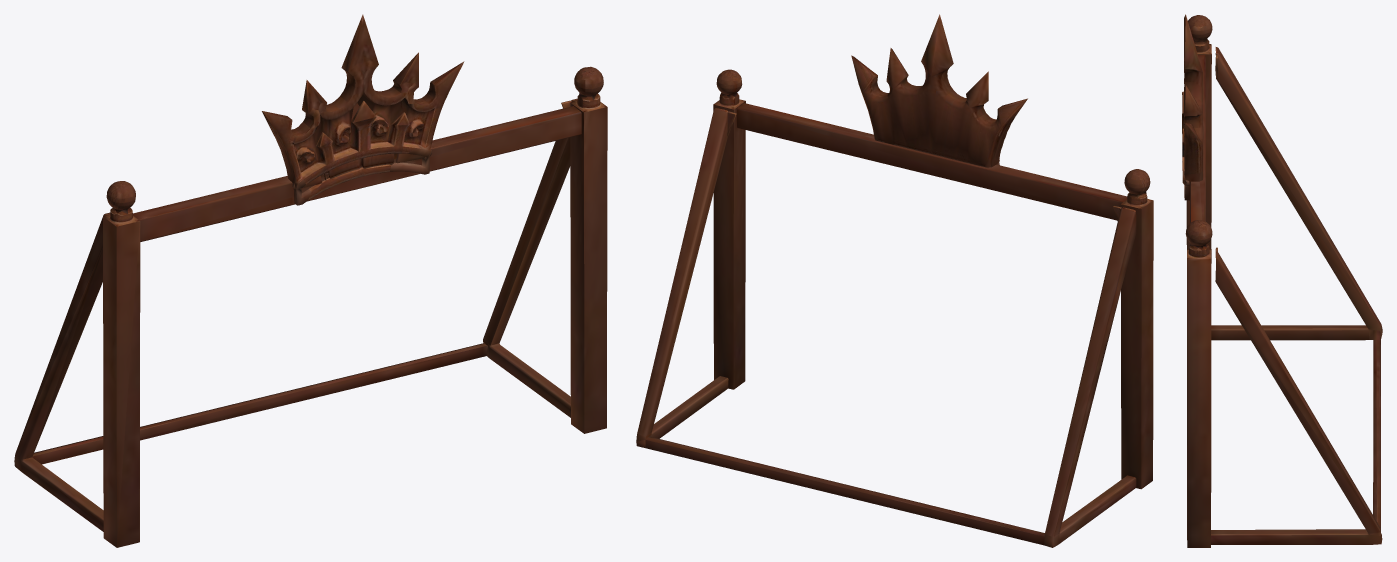
File: mansion_porteria.glb
3 views of the same model, side by side, from view 1: azimuth 30°, elevation 25°; view 2: azimuth 150°, elevation 25°; view 3: azimuth 270°, elevation 25° (orthographic). The views are drawn at different scales.
Visible parts, largest first — view 1: tripo_node_7494f1ee-ffaf-4196-9c3b-6909a13d97ec; view 2: tripo_node_7494f1ee-ffaf-4196-9c3b-6909a13d97ec; view 3: tripo_node_7494f1ee-ffaf-4196-9c3b-6909a13d97ec.
Boxes of the visible parts, left/top/right/bottom form: tripo_node_7494f1ee-ffaf-4196-9c3b-6909a13d97ec: left=14, top=14, right=607, bottom=547; tripo_node_7494f1ee-ffaf-4196-9c3b-6909a13d97ec: left=636, top=14, right=1153, bottom=547; tripo_node_7494f1ee-ffaf-4196-9c3b-6909a13d97ec: left=1182, top=14, right=1382, bottom=547.
Size of the model in its own units: 0.9995 by 0.9202 by 0.3919.
1 material, 1 textured.
